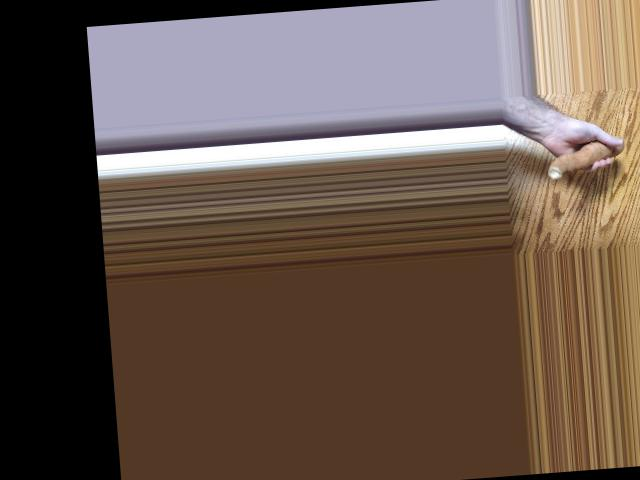sweet_potato: (540, 138, 630, 179)
